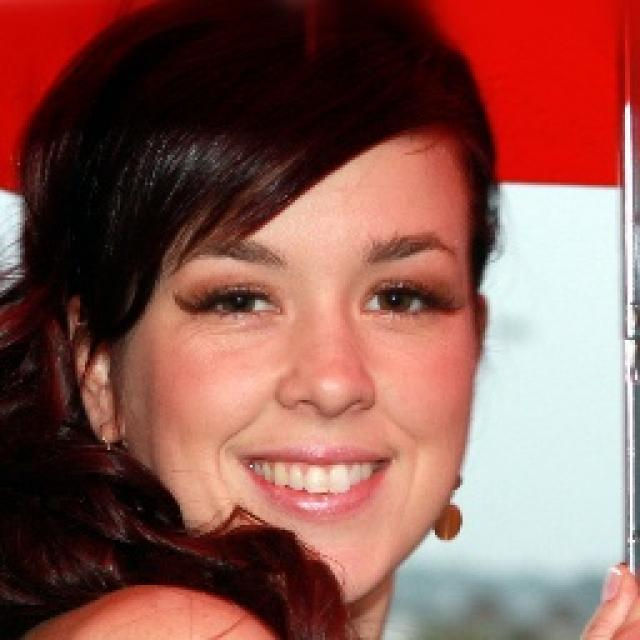earlobe: (63, 290, 124, 446)
